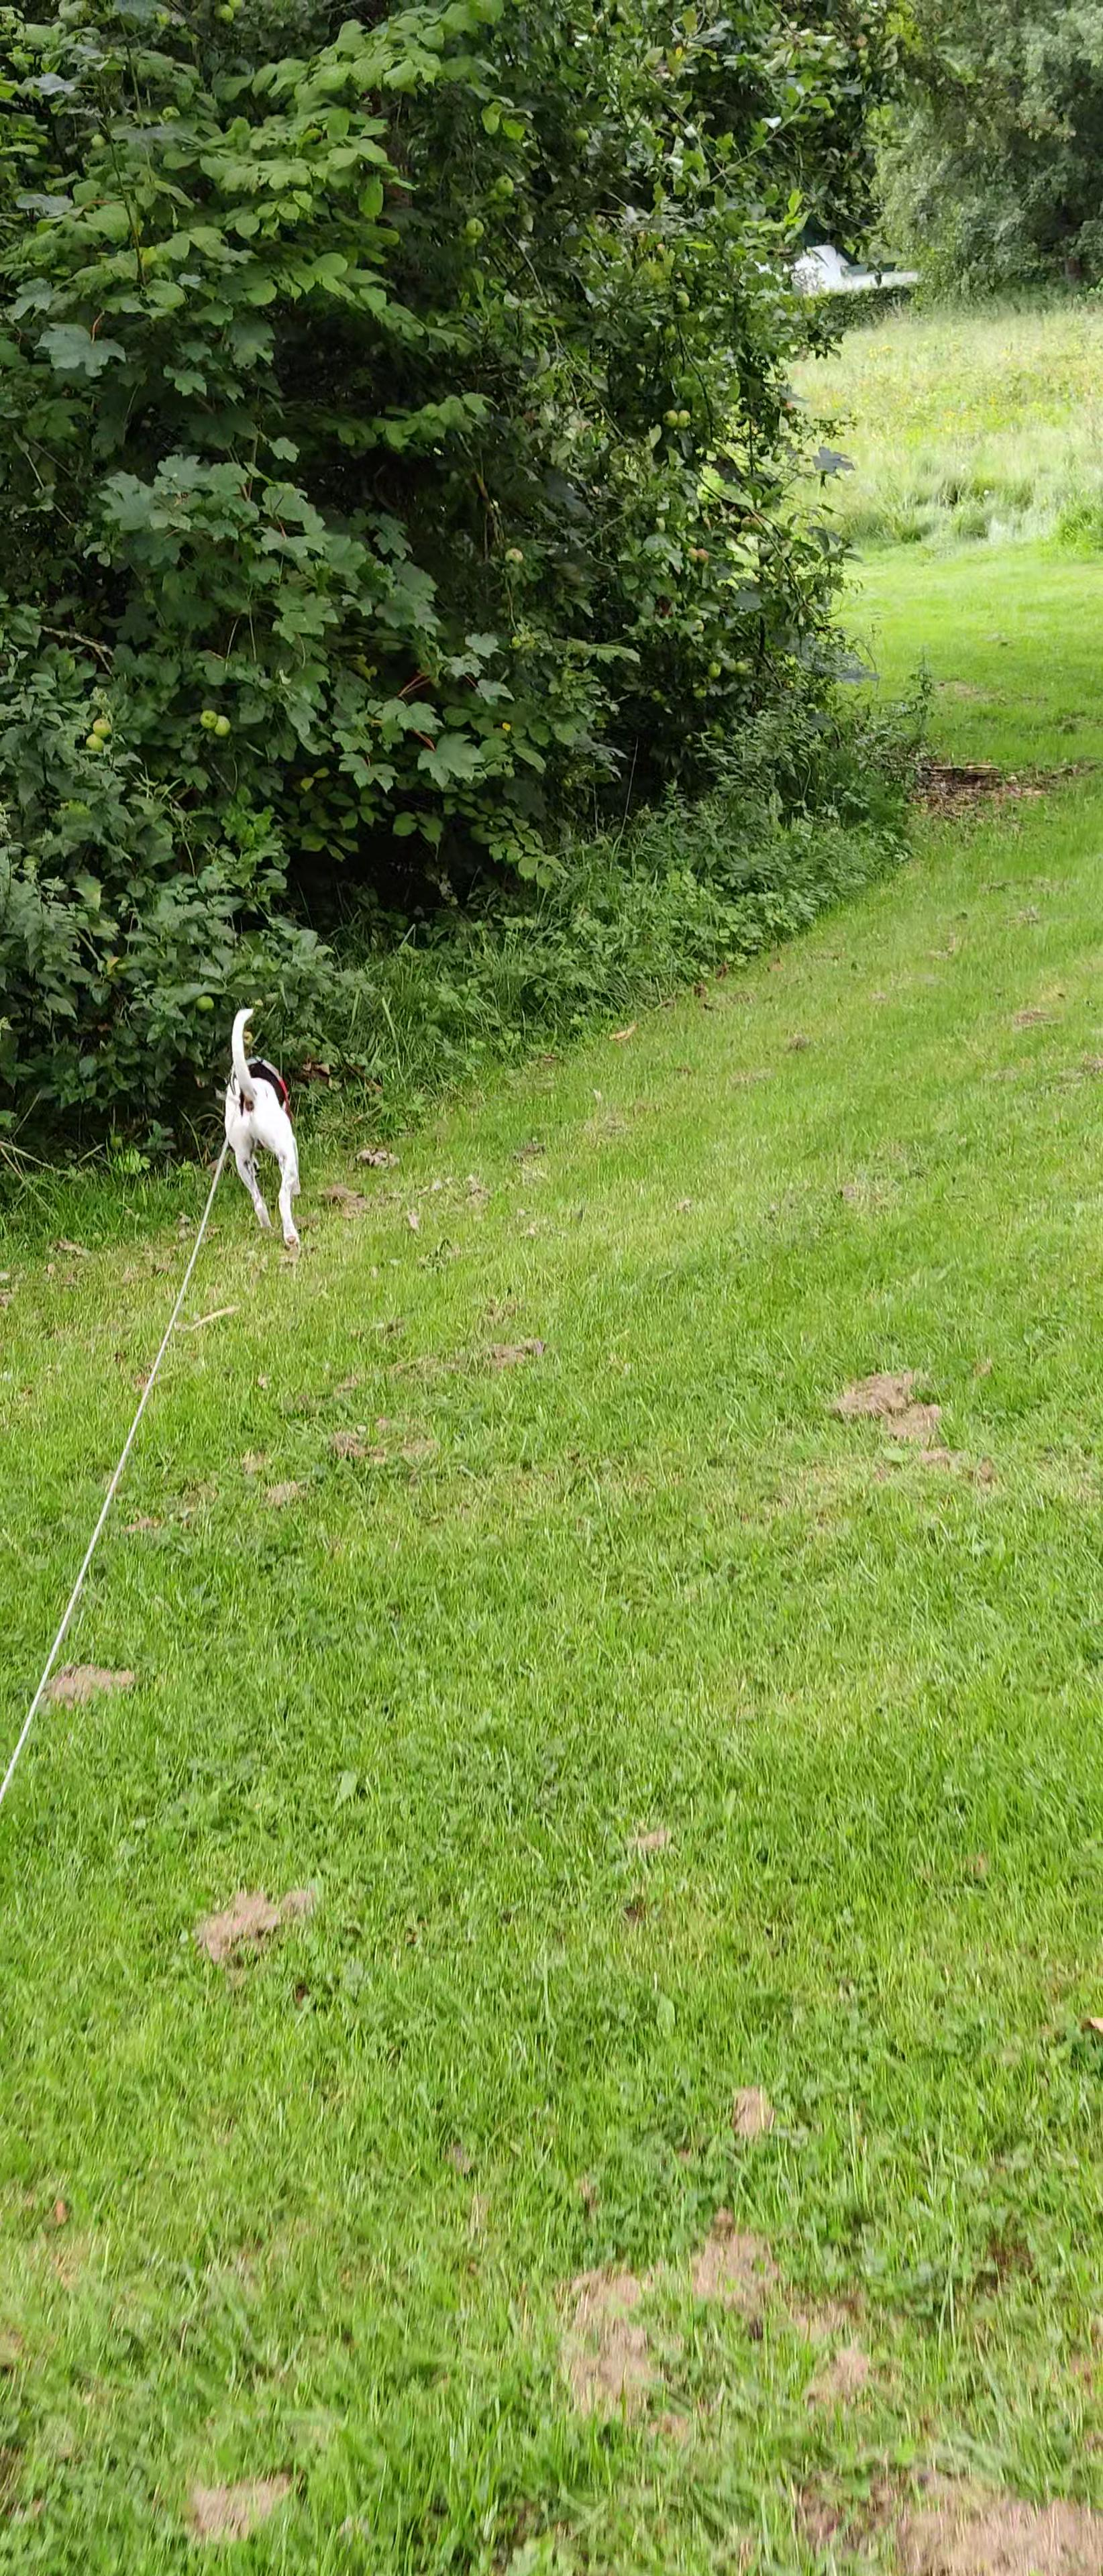Dog: (202, 994, 319, 1262)
